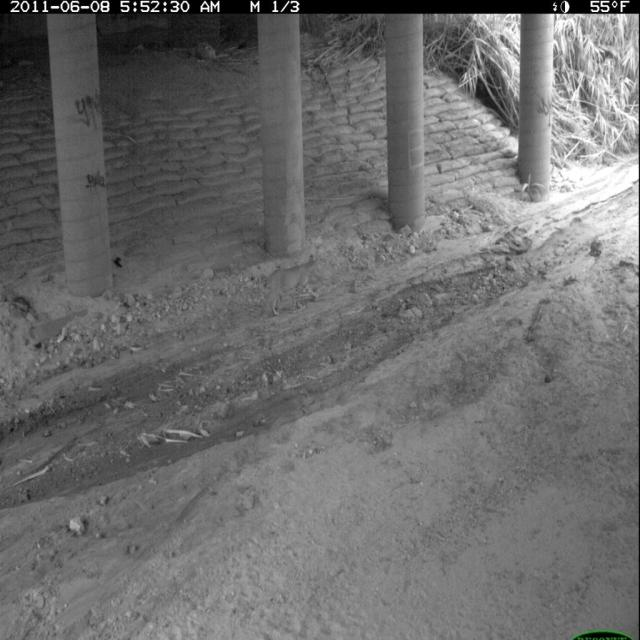bobcat: (261, 252, 324, 323)
